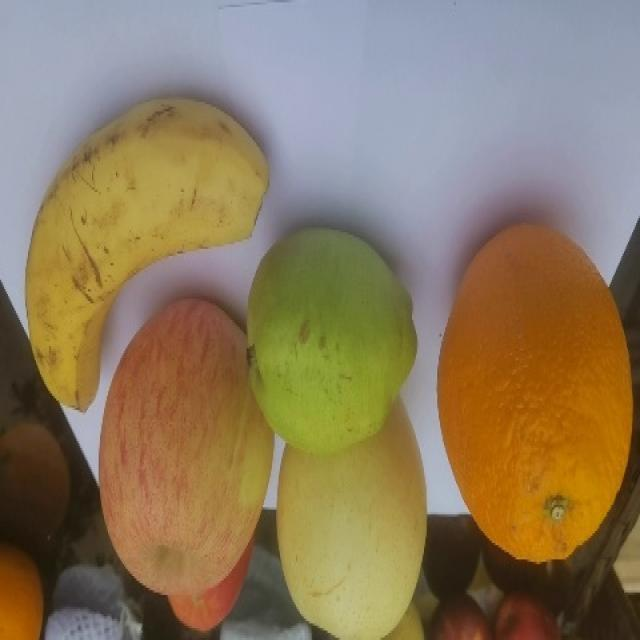Apple: (97, 296, 274, 596)
Banana: (23, 95, 270, 413)
Orange: (435, 222, 634, 564)
